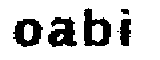a: (47, 14, 78, 50)
b: (81, 5, 112, 48)
i: (116, 6, 142, 52)
o: (10, 19, 44, 48)
